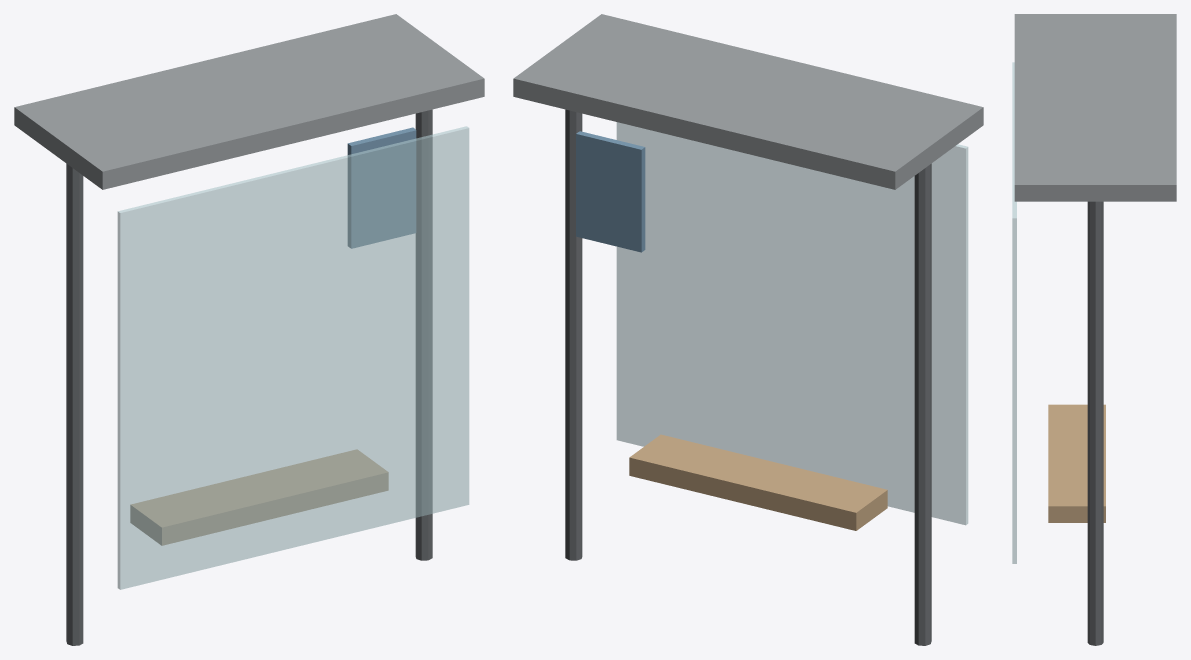
Rendered from bus_stop_02.glb.
The picture shows the model from 3 angles, left to right: view 1: azimuth 30°, elevation 25°; view 2: azimuth 150°, elevation 25°; view 3: azimuth 270°, elevation 25°; orthographic projection. The views are drawn at different scales.
Visible parts, largest first — view 1: backglass, roof, bench, post-0.8, post0.8, sign; view 2: backglass, roof, bench, post-0.8, sign, post0.8; view 3: roof, post0.8, bench, backglass.
Boxes of the visible parts, x1,y1,x2,y2 form: backglass: (117,126,469,589); roof: (14,14,484,189); bench: (130,449,388,545); post-0.8: (66,163,83,645); post0.8: (415,109,432,560); sign: (347,127,416,248); backglass: (616,122,968,525); roof: (513,14,983,189); bench: (629,434,887,530); post-0.8: (914,163,931,645); sign: (576,131,645,252); post0.8: (565,109,582,560); roof: (1014,14,1176,201); post0.8: (1087,201,1103,645); bench: (1048,404,1105,522); backglass: (1012,62,1016,563).
Size of the model in its own units: 1.75 by 2.22 by 0.71.
